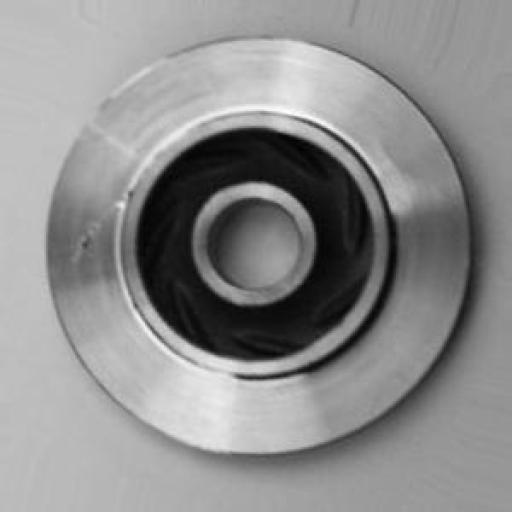defect: (46, 167, 154, 300)
